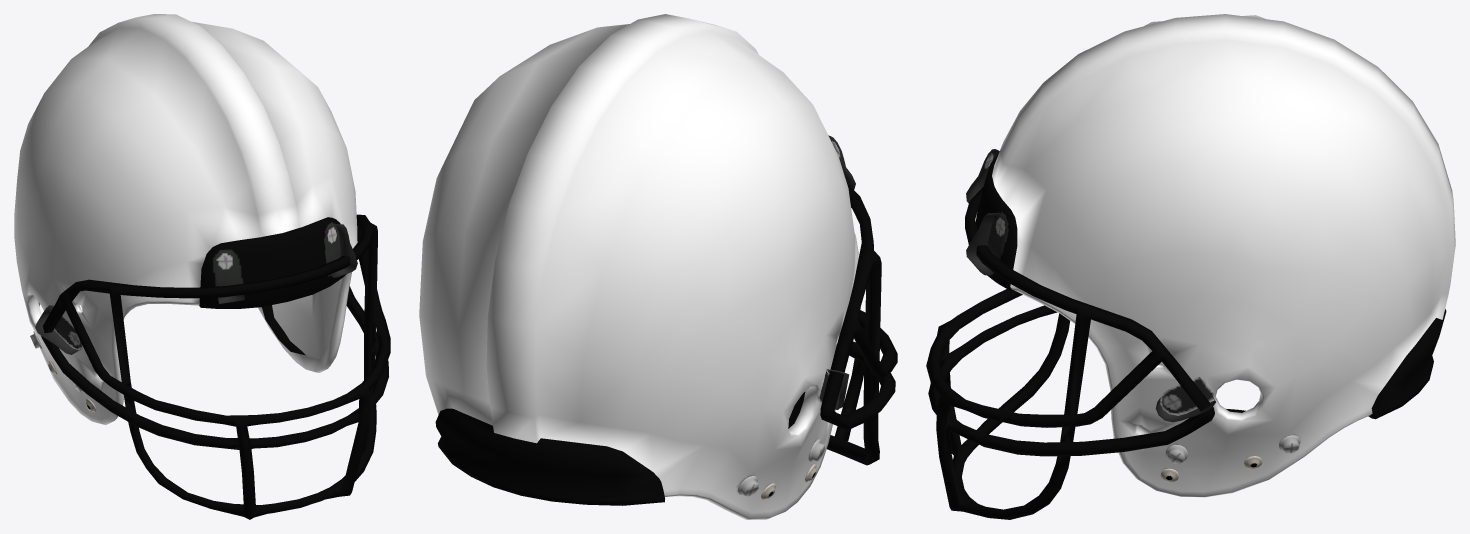
File: SurvivorMale_Head_Helmet_Football_LOD0.glb
The picture shows the model from 3 angles, left to right: view 1: azimuth 30°, elevation 25°; view 2: azimuth 150°, elevation 25°; view 3: azimuth 270°, elevation 25°; orthographic projection. The views are drawn at different scales.
Parts seen in each view (by area): view 1: Hoodie; view 2: Hoodie; view 3: Hoodie.
Boxes of the visible parts, <box> form: Hoodie: <box>14,14,390,519</box>; Hoodie: <box>419,14,897,519</box>; Hoodie: <box>926,14,1455,519</box>.
Size of the model in its own units: 0.2234 by 0.2719 by 0.2824.
1 material, 1 textured.
